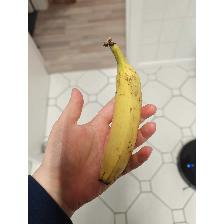Banane: (96, 38, 144, 188)
